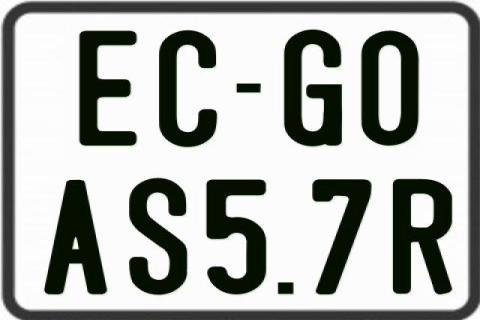0: (204, 180, 270, 300), (312, 179, 377, 296), (358, 30, 422, 148)
A: (42, 178, 105, 296)
C: (156, 31, 219, 147)
E: (80, 31, 142, 149)
G: (282, 29, 345, 150)
R: (391, 177, 456, 295)
S: (128, 178, 186, 294)
